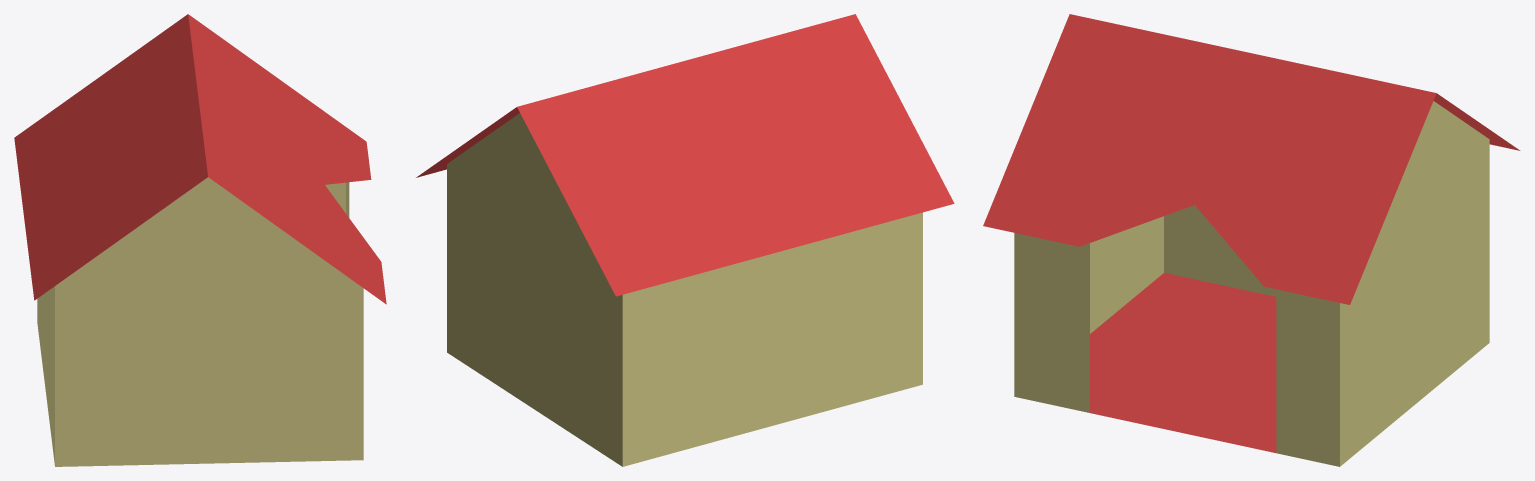
The picture shows the model from 3 angles, left to right: view 1: azimuth 30°, elevation 25°; view 2: azimuth 150°, elevation 25°; view 3: azimuth 270°, elevation 25°; orthographic projection. The views are drawn at different scales.
Bounding box in the file's own units: 16.79 × 17.3 × 11.19.
